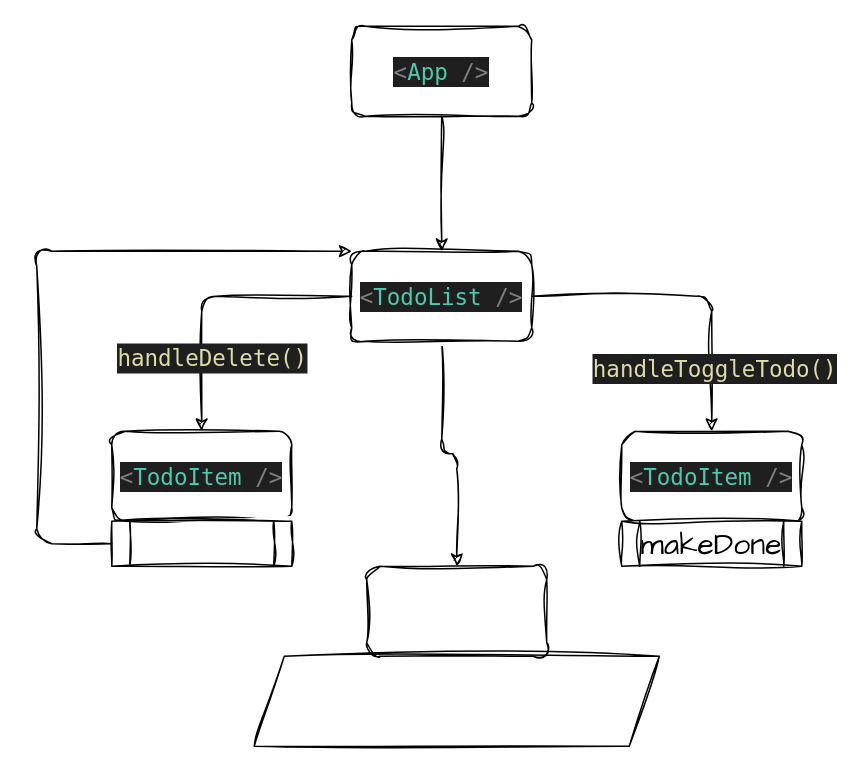
The diagram is 863 pixels wide and 773 high, and some of its shapes have lost their labels. Here are the shapes that lost their labels. From the top down, the centre of each, then its label:
At (201,543): "deleteBTn".
At (456,610): "< AddTodo />".
At (456,700): "if ( newTodoTitle === '' ) return ;".
